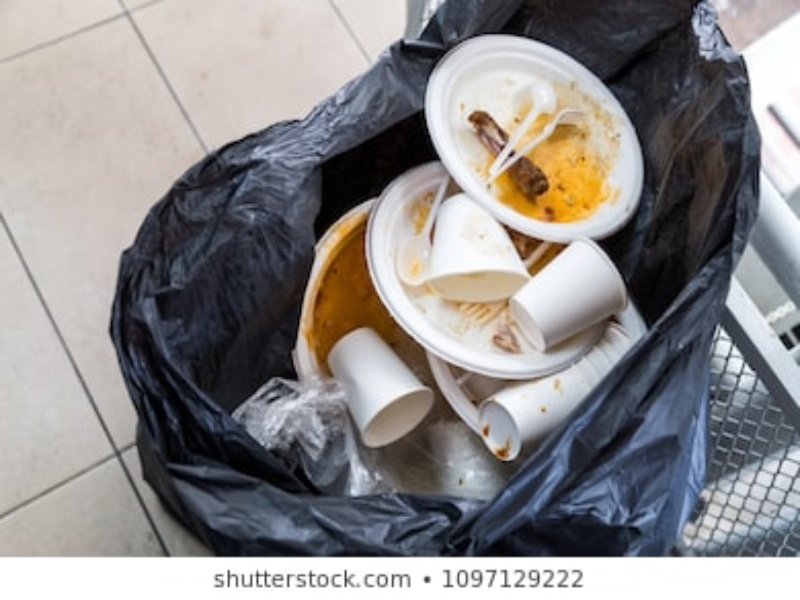plastic-cup: (511, 238, 630, 351), (328, 333, 430, 444), (429, 195, 530, 304)
plastic-plate: (367, 162, 608, 377), (424, 35, 652, 243)
plastic-silverware: (487, 83, 561, 170), (494, 108, 583, 180), (397, 177, 454, 286)
